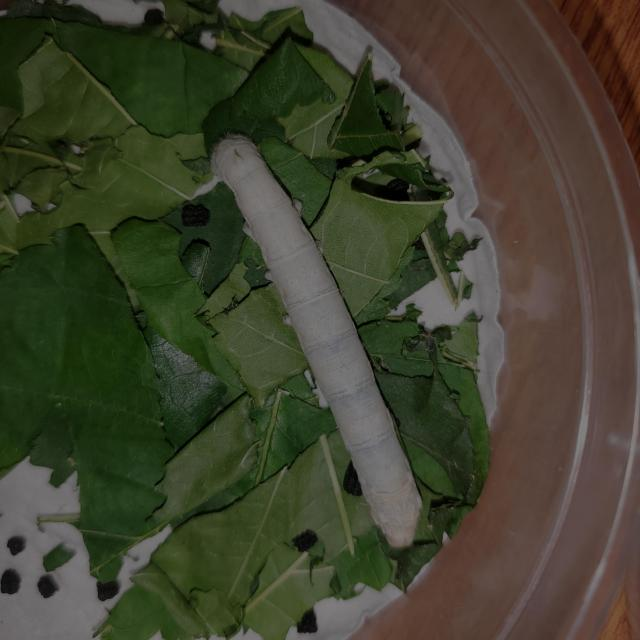Healthy: (182, 102, 450, 580)
